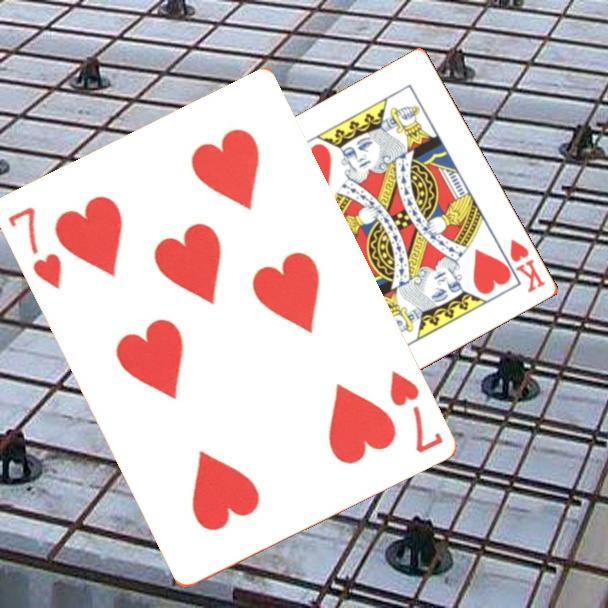h07: (3, 203, 65, 292), (385, 366, 445, 456)
h13: (507, 235, 549, 296)
